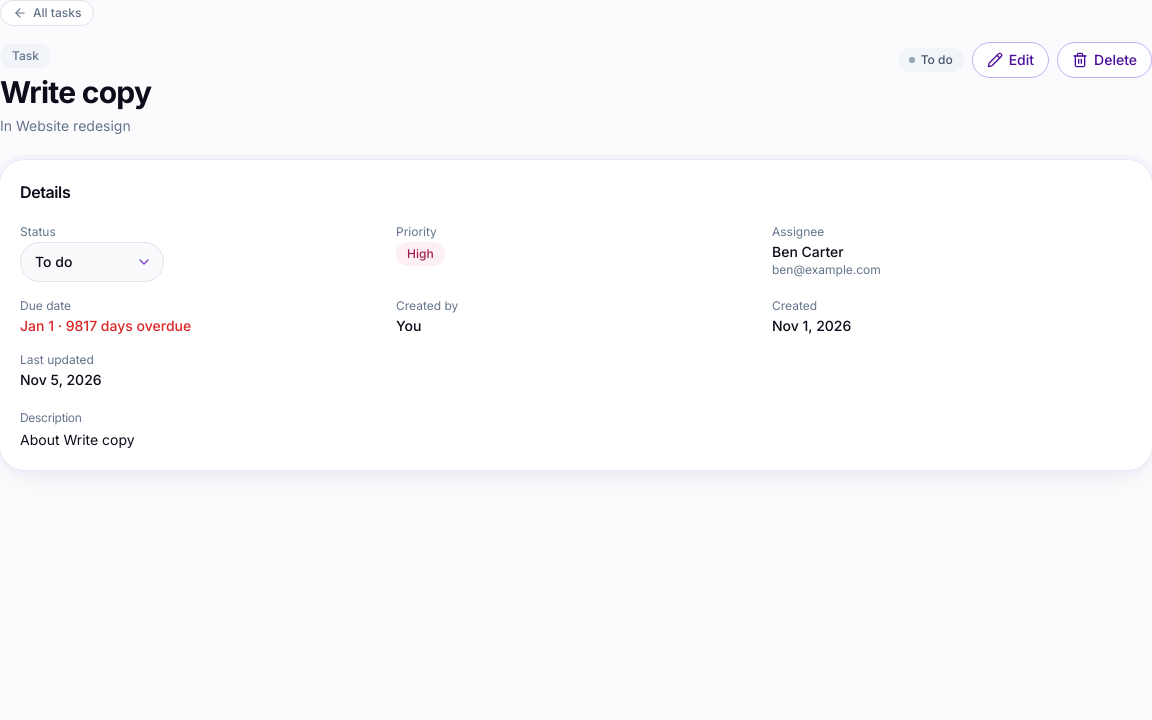
Test: changing things › explains a refused delete and stays on the page
Click the button "Delete": coordinates (1105, 60) 1057,42 -> 1151,78
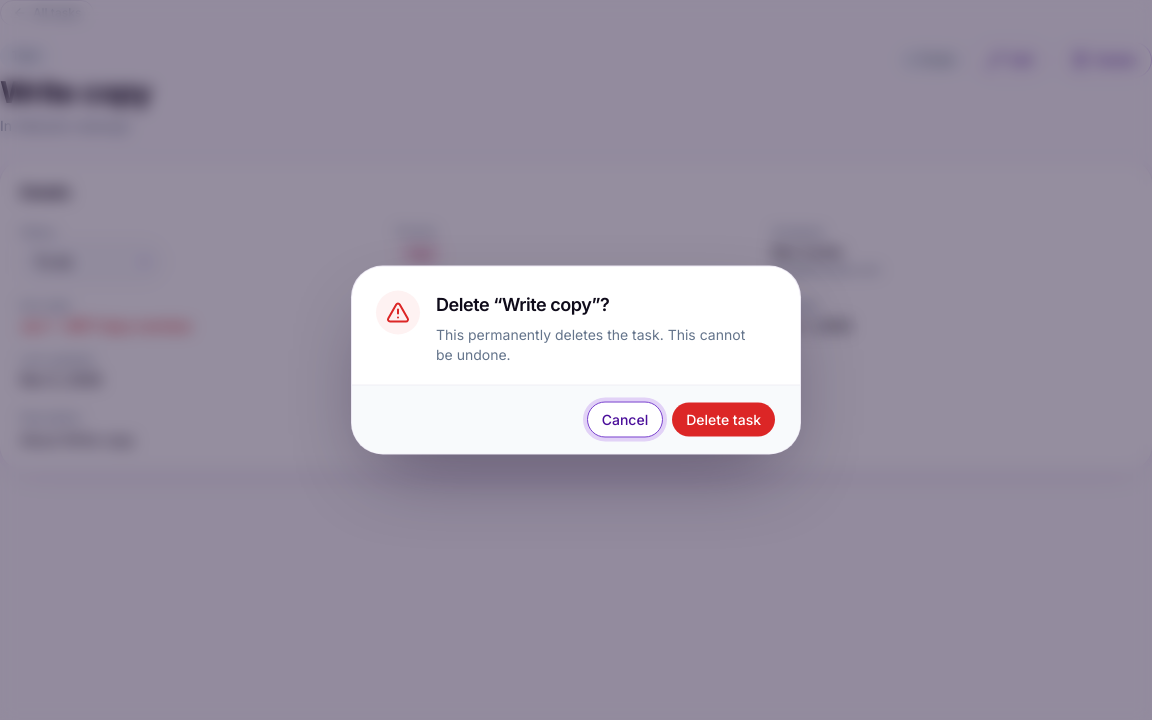
Click the button "Delete task": coordinates (724, 420) 671,402 -> 776,438
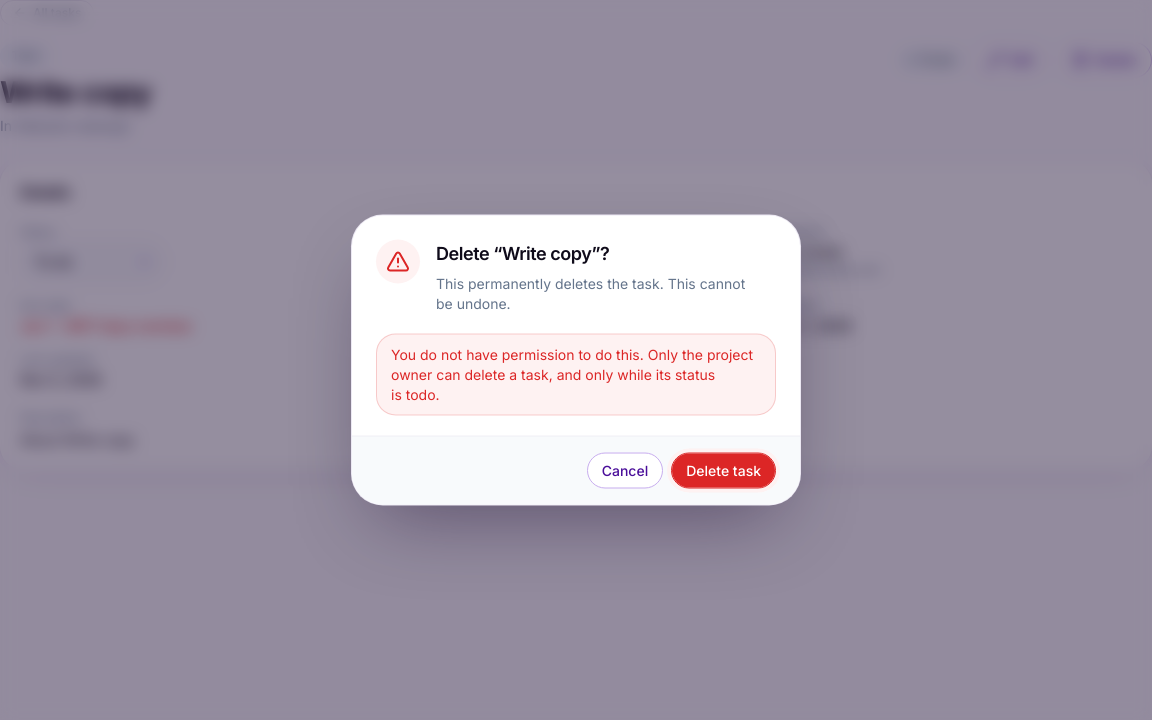
Expected: the message shows "You do not have permission to do this. Only the project owner can delete a task", 391,346 -> 753,402
